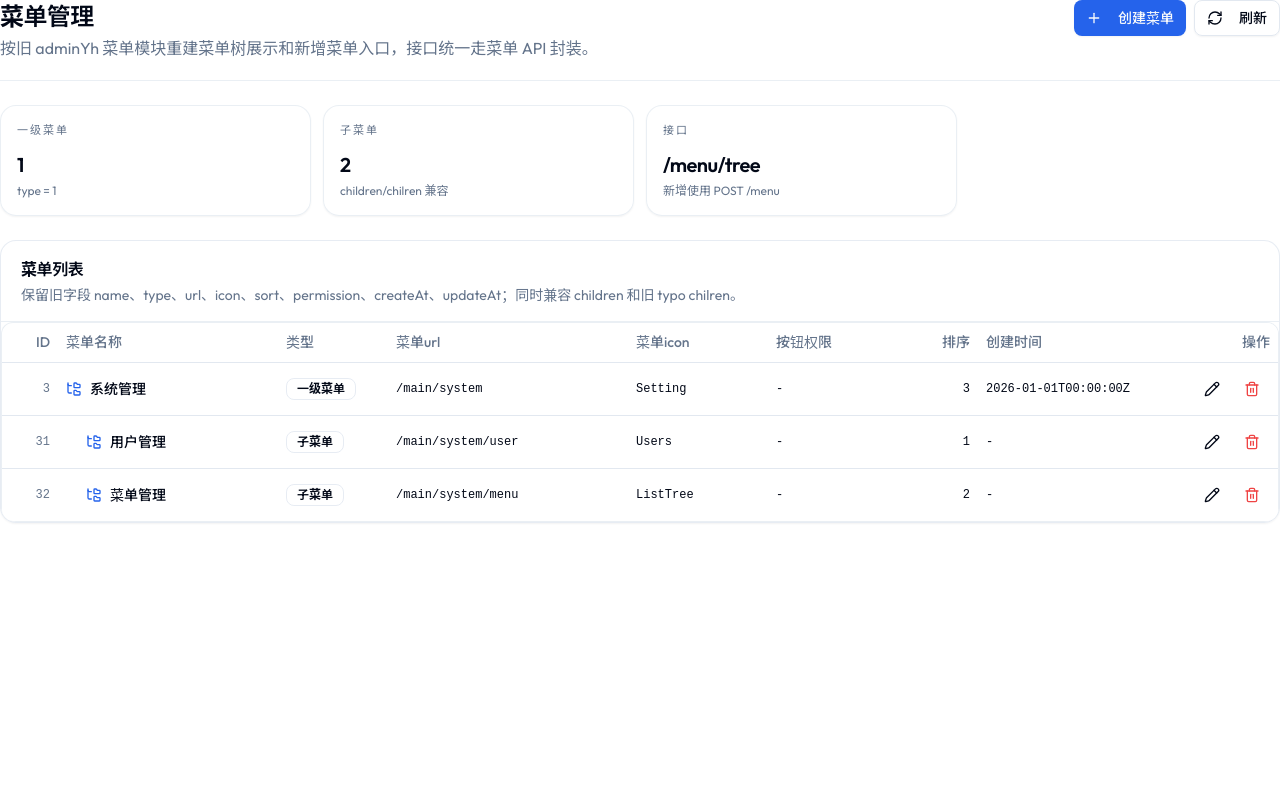
Scenario: MenusList › validates required old menu fields before creating
Check: the text "系统管理" is shown, box [90,379,146,399]
Click the button "创建菜单" at (1130, 18), box [1074,0,1186,36]
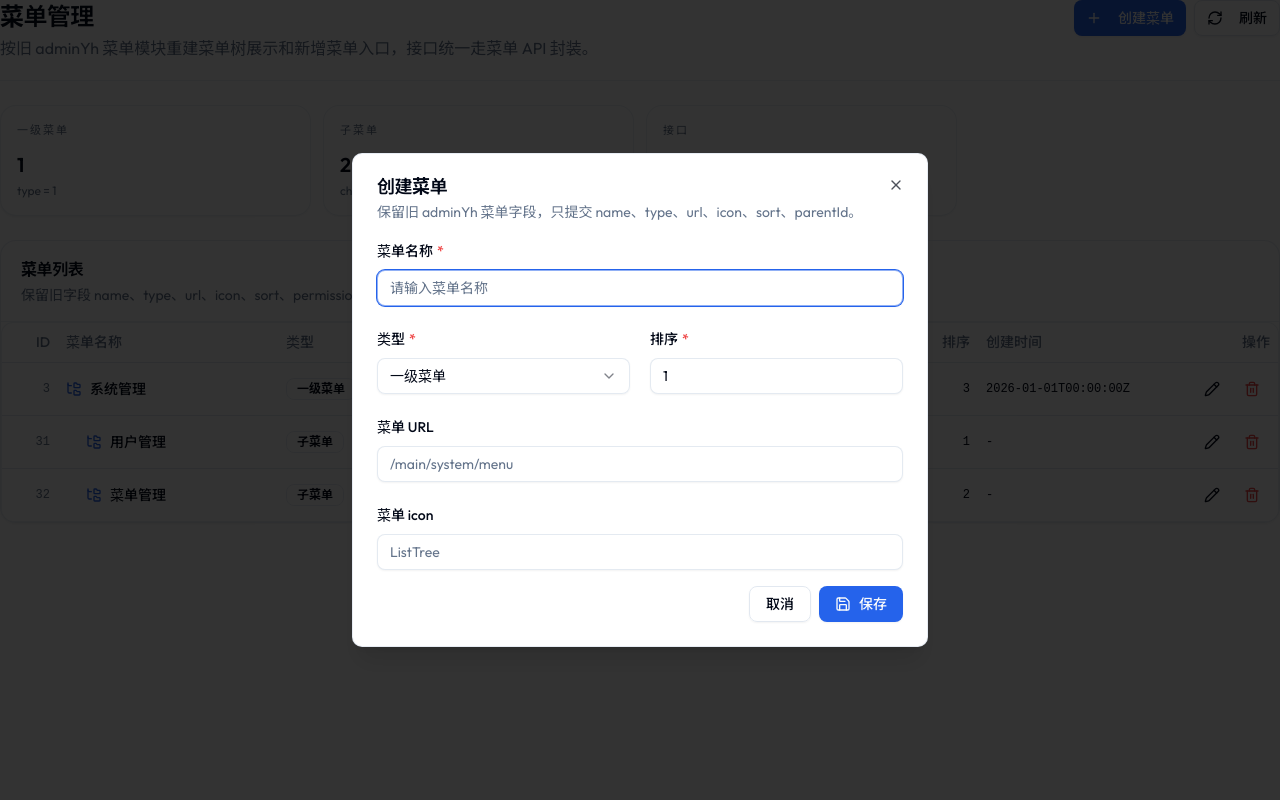
Clear the field labelled "排序" at (776, 376), box [650,358,903,394]
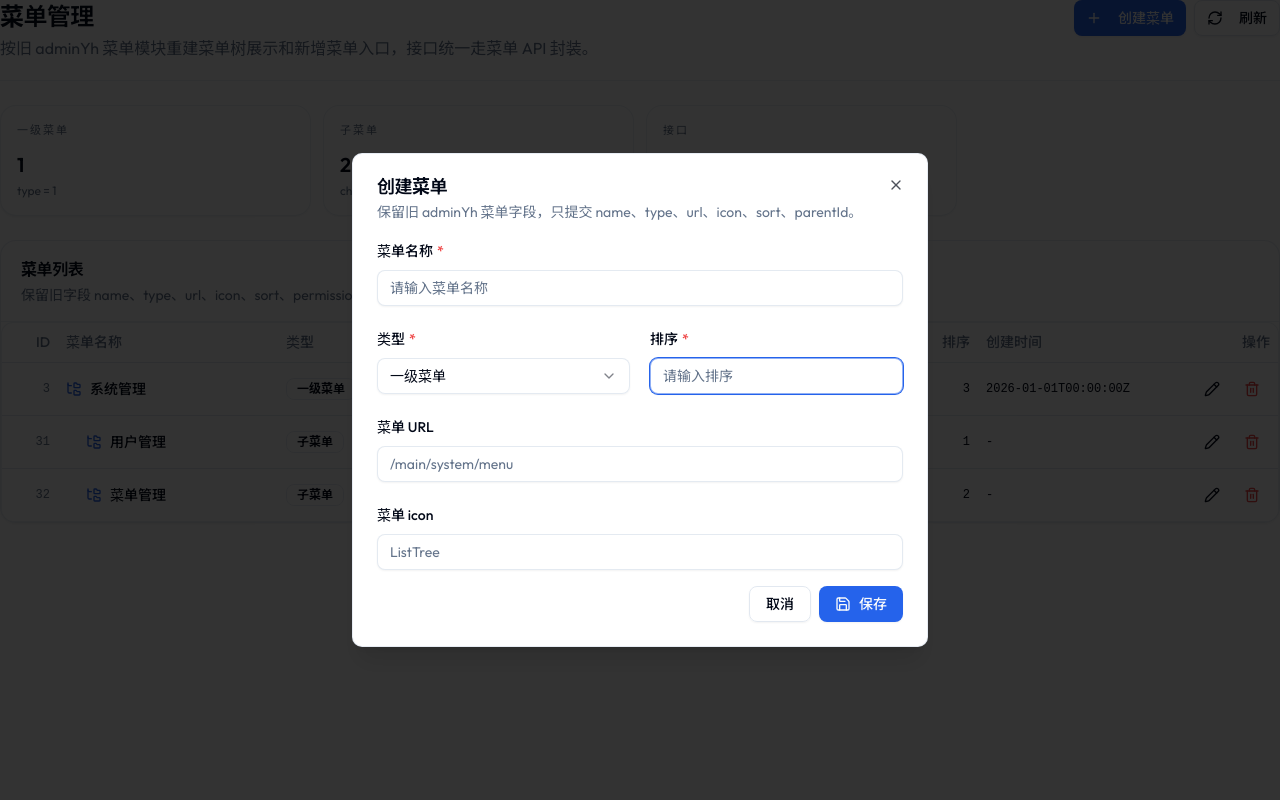
Click the button "保存" at (861, 604), box [819,586,903,622]
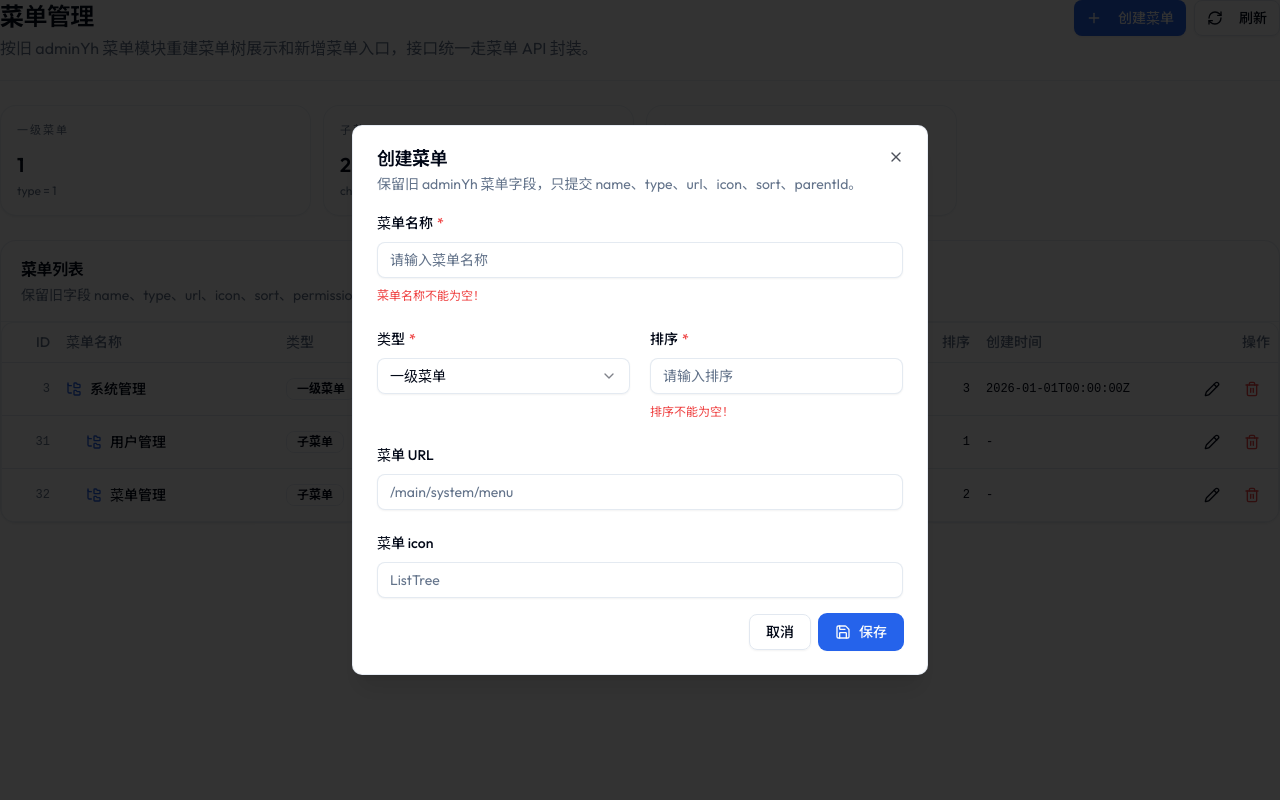
Check: the text "菜单名称不能为空！" is shown, box [377,288,485,303]
Check: the text "排序不能为空！" is shown, box [650,404,734,419]
